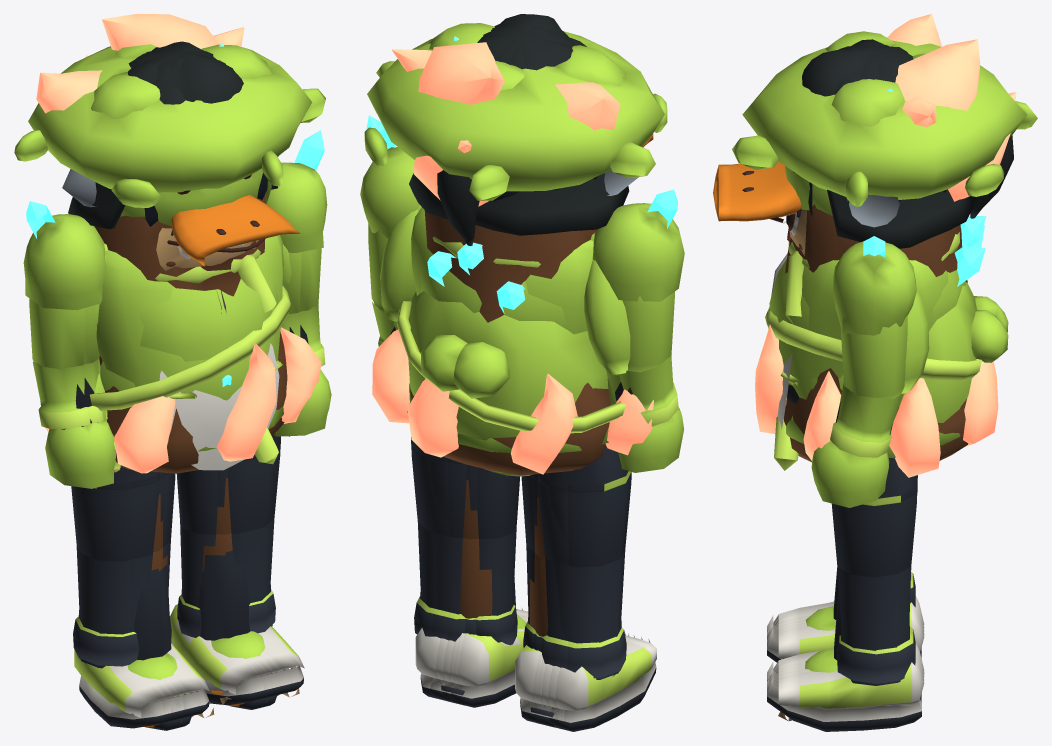
The model's file is characters.glb.
3 renders of one model, left to right at view 1: azimuth 30°, elevation 25°; view 2: azimuth 150°, elevation 25°; view 3: azimuth 270°, elevation 25°, orthographic. The views are drawn at different scales.
Visible parts, largest first — view 1: Leafy crown, Tree trunk, Dress flame point, Expedition torso.002, Stone arm, Expedition torso.005, Plump duck body, Expedition thigh.010, Flame hair tip, Broad duck bill, Stone shin.001, Stone arm.001 (+36 smaller); view 2: Leafy crown, Plump duck body, Tree trunk, Dress flame point, Flame hair tip, Stone arm, Hair volume bob, Expedition thigh.010, Sneaker.010, Expedition shin.010, Expedition torso.002, Sneaker.001 (+34 smaller); view 3: Leafy crown, Dress flame point, Tree trunk, Plump duck body, Sneaker.011, Flame hair tip, Stone arm.001, Expedition thigh.011, Expedition shin.011, Expedition torso.002, Hair volume bob, Broad duck bill (+18 smaller).
Boxes of the visible parts, x1,y1,x2,y2 form: Leafy crown: [14, 44, 325, 207]; Tree trunk: [89, 195, 290, 473]; Dress flame point: [45, 327, 321, 473]; Expedition torso.002: [96, 235, 283, 400]; Stone arm: [23, 201, 105, 310]; Expedition torso.005: [140, 279, 278, 395]; Plump duck body: [100, 249, 279, 470]; Expedition thigh.010: [71, 467, 148, 561]; Flame hair tip: [36, 14, 244, 113]; Broad duck bill: [167, 195, 300, 266]; Stone shin.001: [199, 550, 269, 673]; Stone arm.001: [266, 130, 327, 253]; Leafy crown: [364, 23, 667, 200]; Plump duck body: [408, 236, 608, 476]; Tree trunk: [396, 210, 625, 475]; Dress flame point: [372, 329, 653, 474]; Flame hair tip: [392, 42, 620, 206]; Stone arm: [593, 189, 684, 301]; Hair volume bob: [409, 36, 629, 235]; Expedition thigh.010: [549, 445, 631, 567]; Sneaker.010: [549, 637, 656, 731]; Expedition shin.010: [554, 549, 625, 679]; Expedition torso.002: [411, 207, 593, 334]; Sneaker.001: [451, 614, 528, 707]; Leafy crown: [732, 31, 1037, 207]; Dress flame point: [755, 325, 998, 477]; Tree trunk: [765, 204, 981, 462]; Plump duck body: [777, 232, 1008, 429]; Sneaker.011: [767, 658, 924, 731]; Flame hair tip: [887, 14, 1016, 201]; Stone arm.001: [832, 236, 916, 335]; Expedition thigh.011: [831, 458, 917, 577]; Expedition shin.011: [837, 566, 911, 685]; Expedition torso.002: [778, 260, 948, 403]; Hair volume bob: [827, 44, 972, 248]; Broad duck bill: [713, 161, 801, 223].
Bounding box in the file's own units: 0.9756 × 2.01 × 0.9188.
